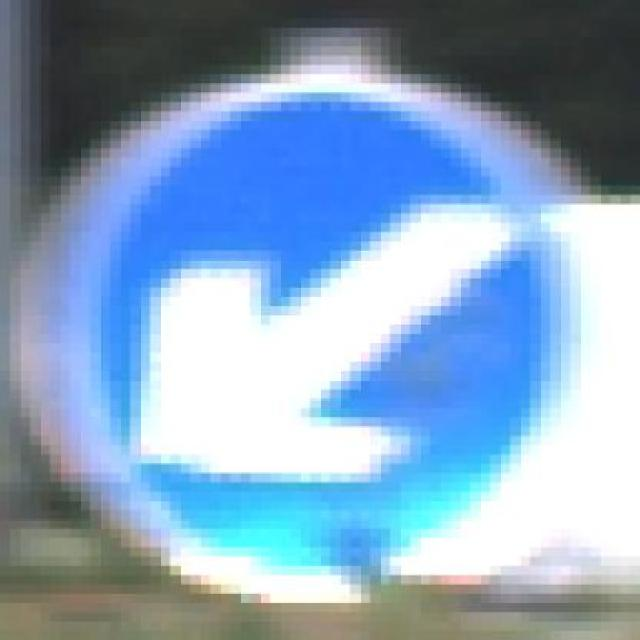Keep-Left: (30, 55, 601, 612)
